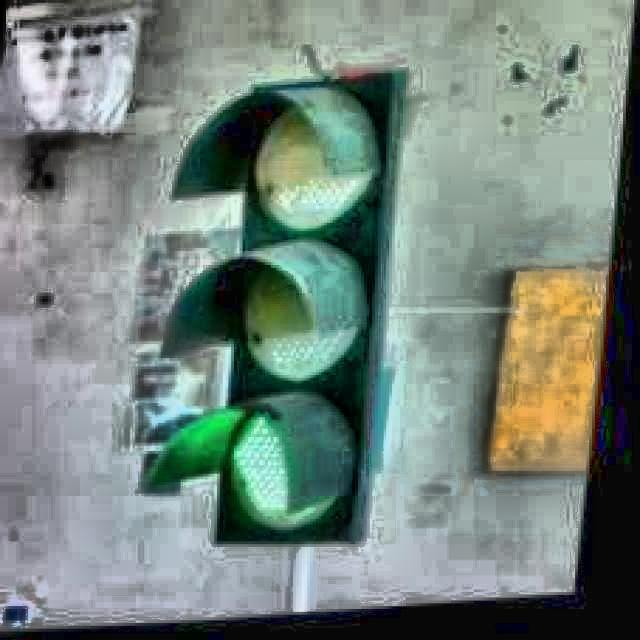green: (219, 78, 372, 554)
